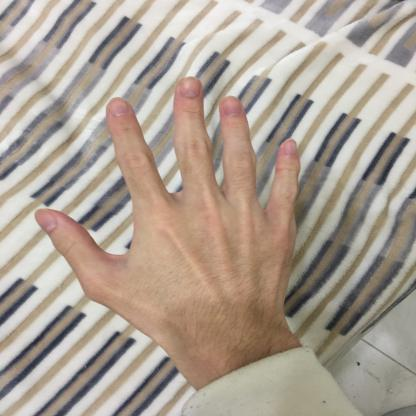bare_hand: (26, 66, 315, 353)
